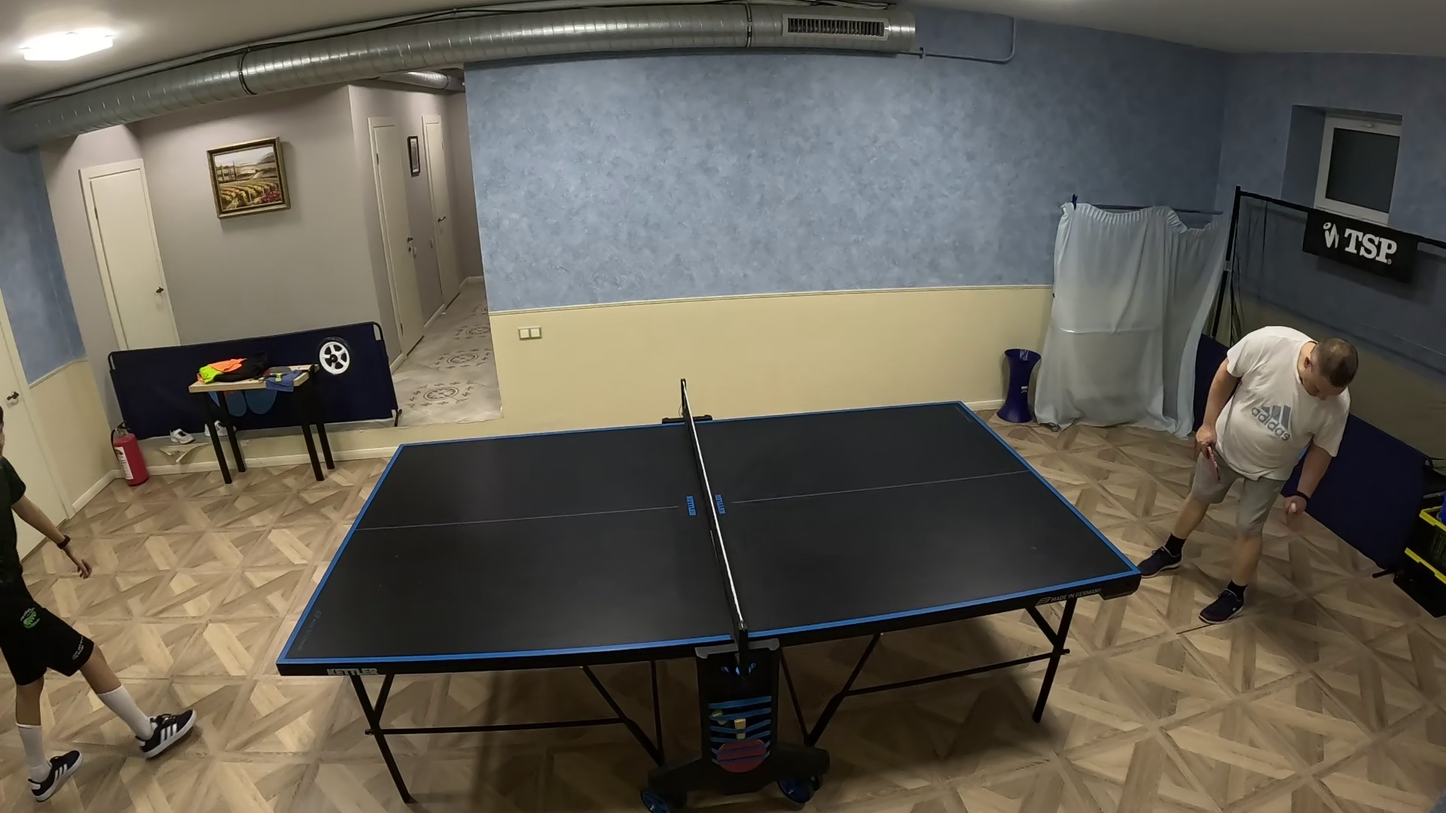Ball: (1290, 502, 1297, 512)
